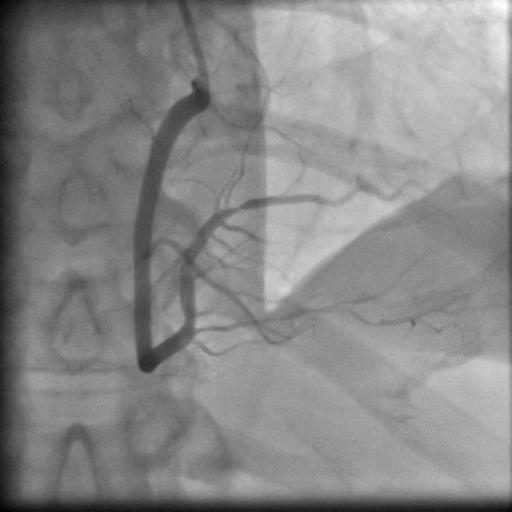Stenosis: (222, 200, 251, 218)
